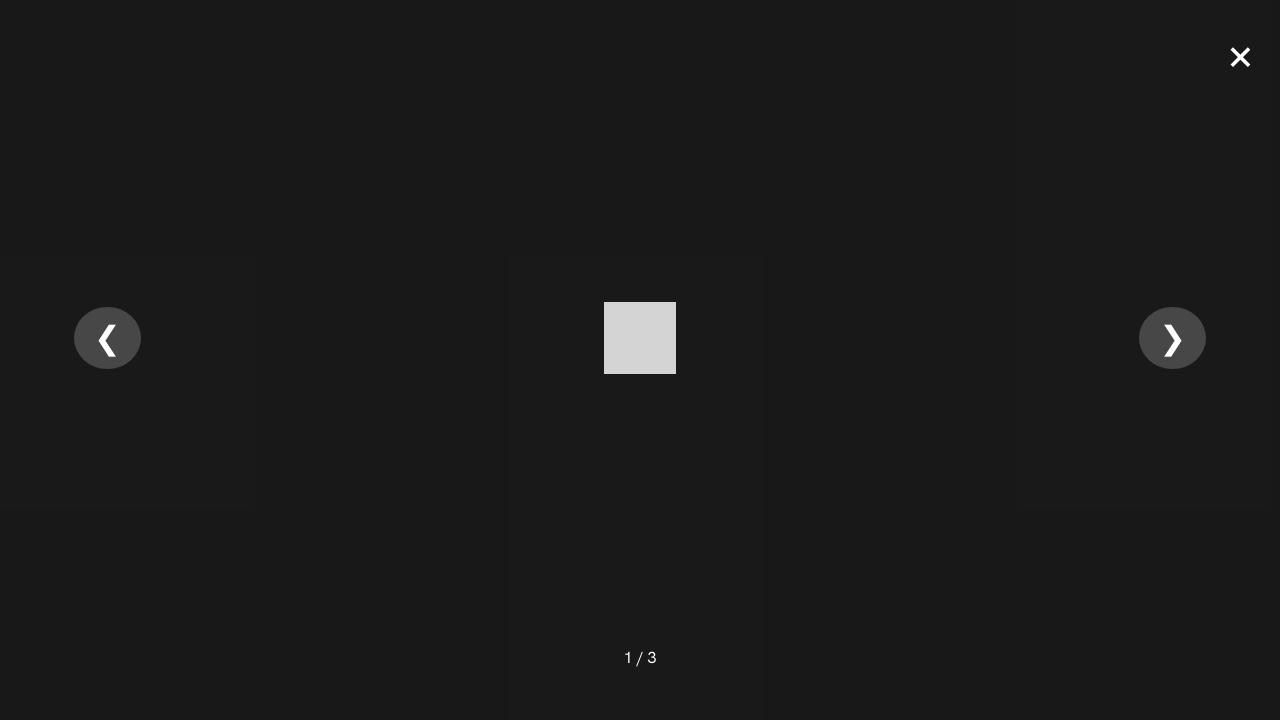
Test: Componente ImageGalleryModal (Pruebas Unitarias) › retrocede a la imagen anterior con el botón Anterior y cicla al final
// De la imagen 1 retrocede y cicla a la imagen 3 (última)
Click the button "❮".
click(107, 338)  # box x1=74 y1=307 x2=141 y2=369
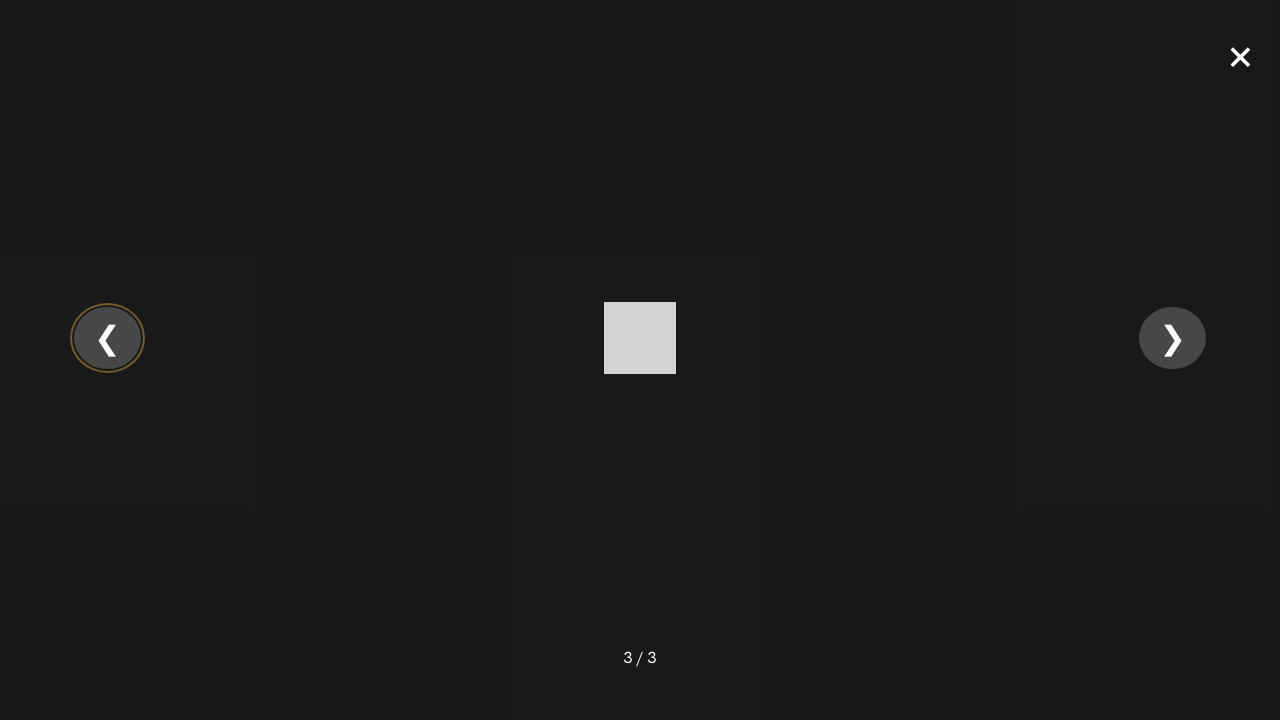
Now the text "3 / 3" is shown, box x1=624 y1=646 x2=656 y2=670
// Retrocede a la imagen 2
Click the button "❮".
click(107, 338)  # box x1=74 y1=307 x2=141 y2=369
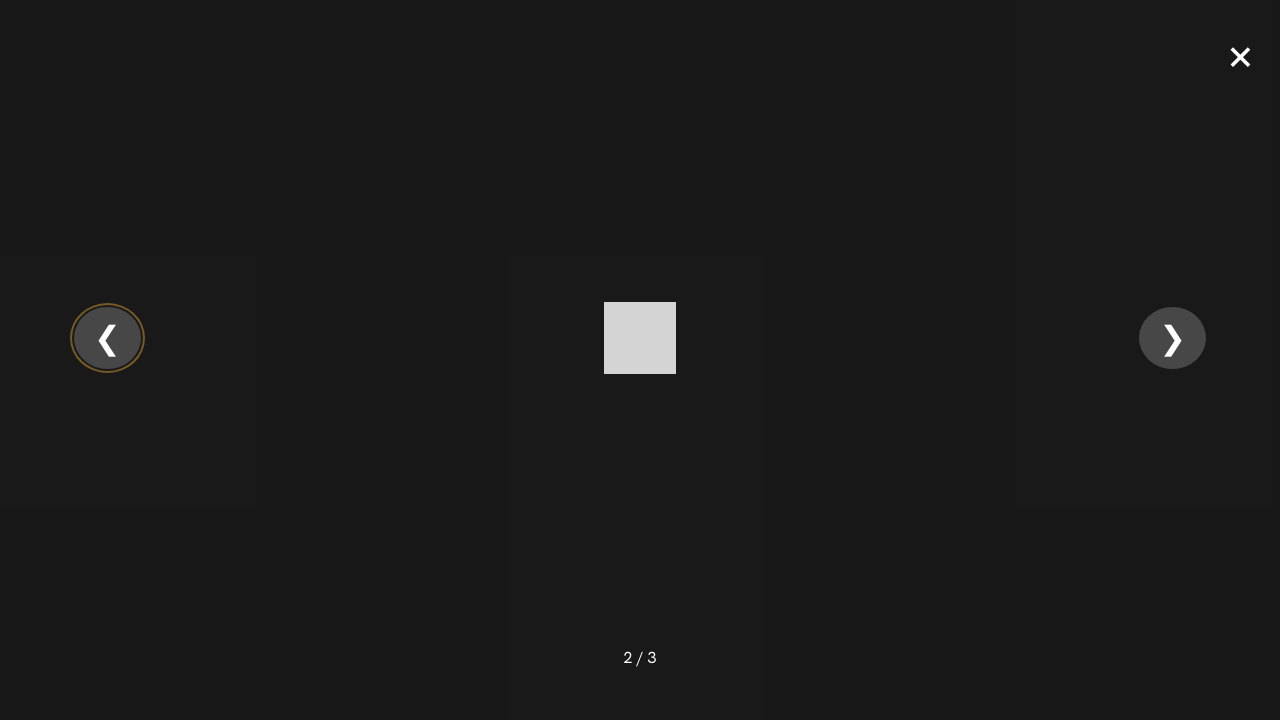
Now the text "2 / 3" is shown, box x1=624 y1=646 x2=656 y2=670
